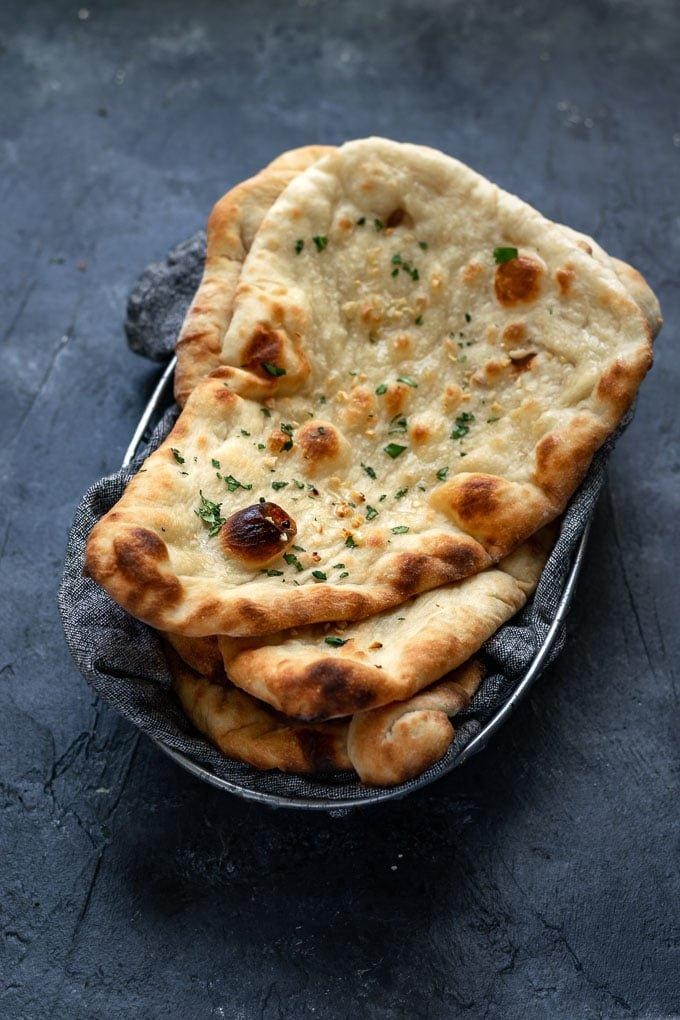Naan: (77, 123, 667, 809)
